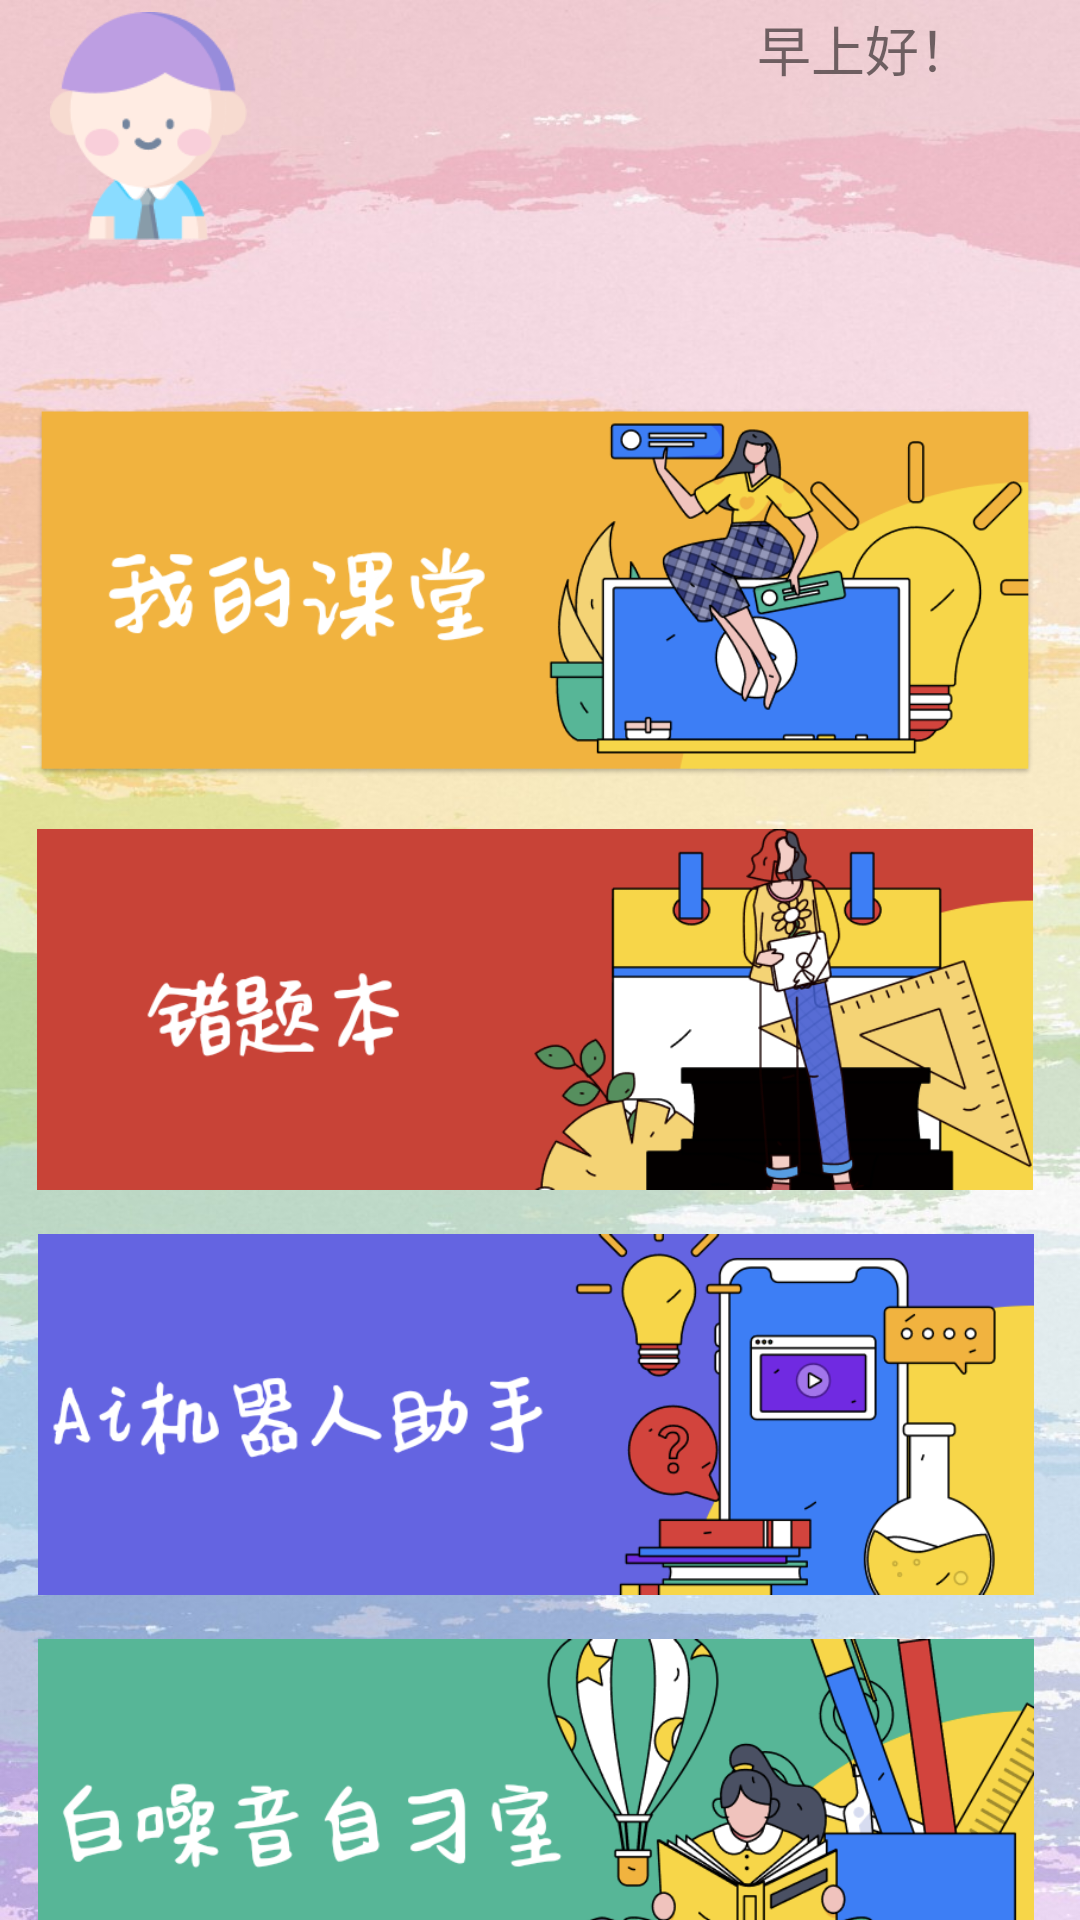

Point at icon controls on the screen. Image size 1080px×1920px, points as (x,y).
user: (140,126)
